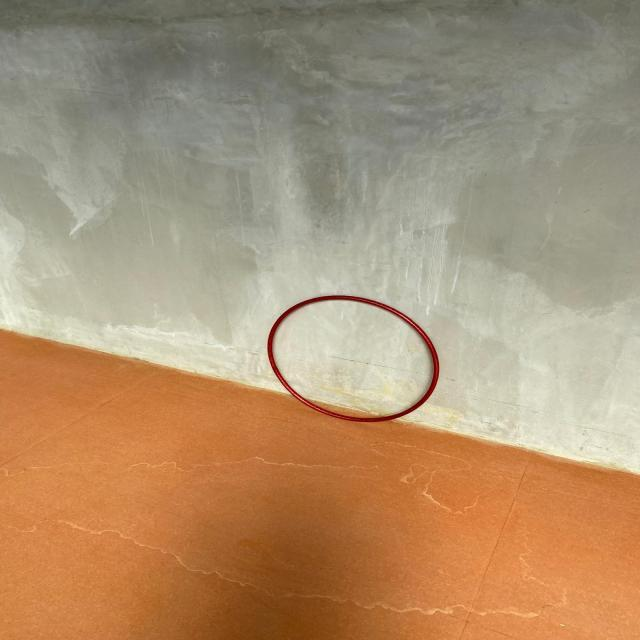Circle: (266, 294, 440, 424)
